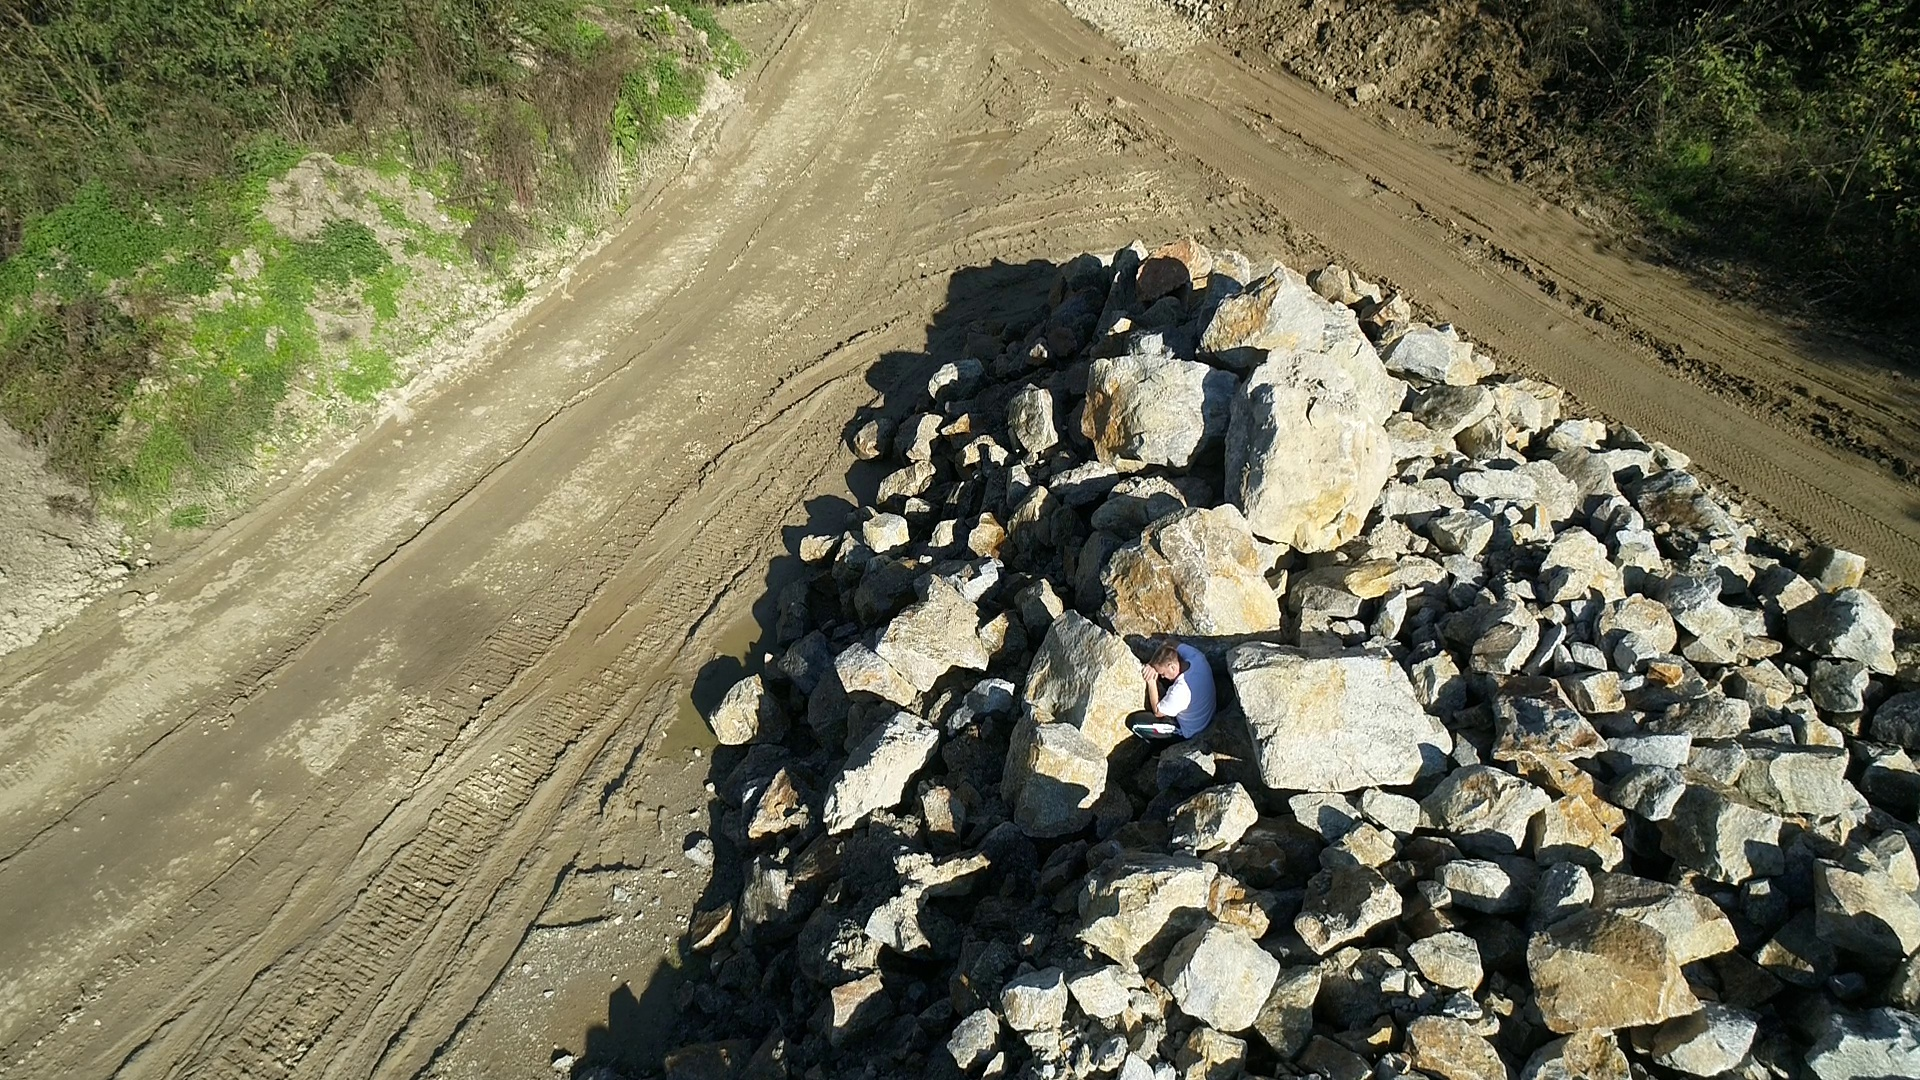person: (1123, 637, 1216, 749)
